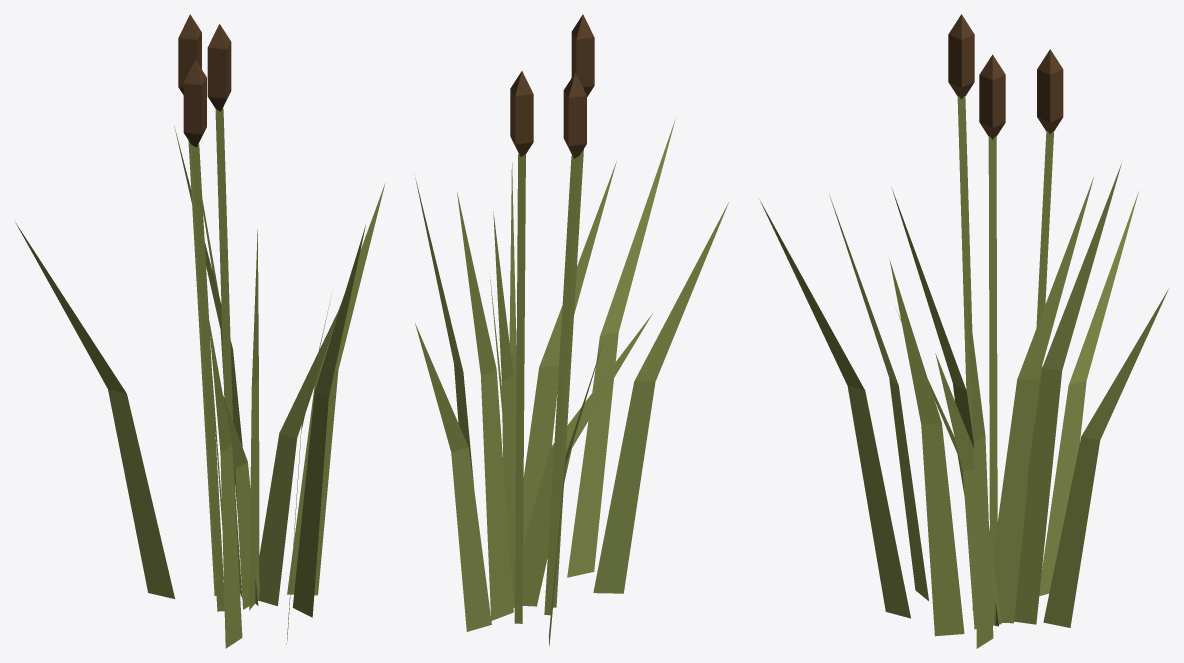
The model's file is Reeds.fbx.
The picture shows the model from 3 angles, left to right: view 1: azimuth 30°, elevation 25°; view 2: azimuth 150°, elevation 25°; view 3: azimuth 270°, elevation 25°; orthographic projection. The views are drawn at different scales.
Parts seen in each view (by area): view 1: Reeds; view 2: Reeds; view 3: Reeds.
Part boxes in pixels (bbox=[...]): Reeds: bbox=[15, 14, 385, 648]; Reeds: bbox=[415, 14, 728, 646]; Reeds: bbox=[760, 14, 1168, 648].
Bounding box in the file's own units: 0.8409 × 1.72 × 1.09.
